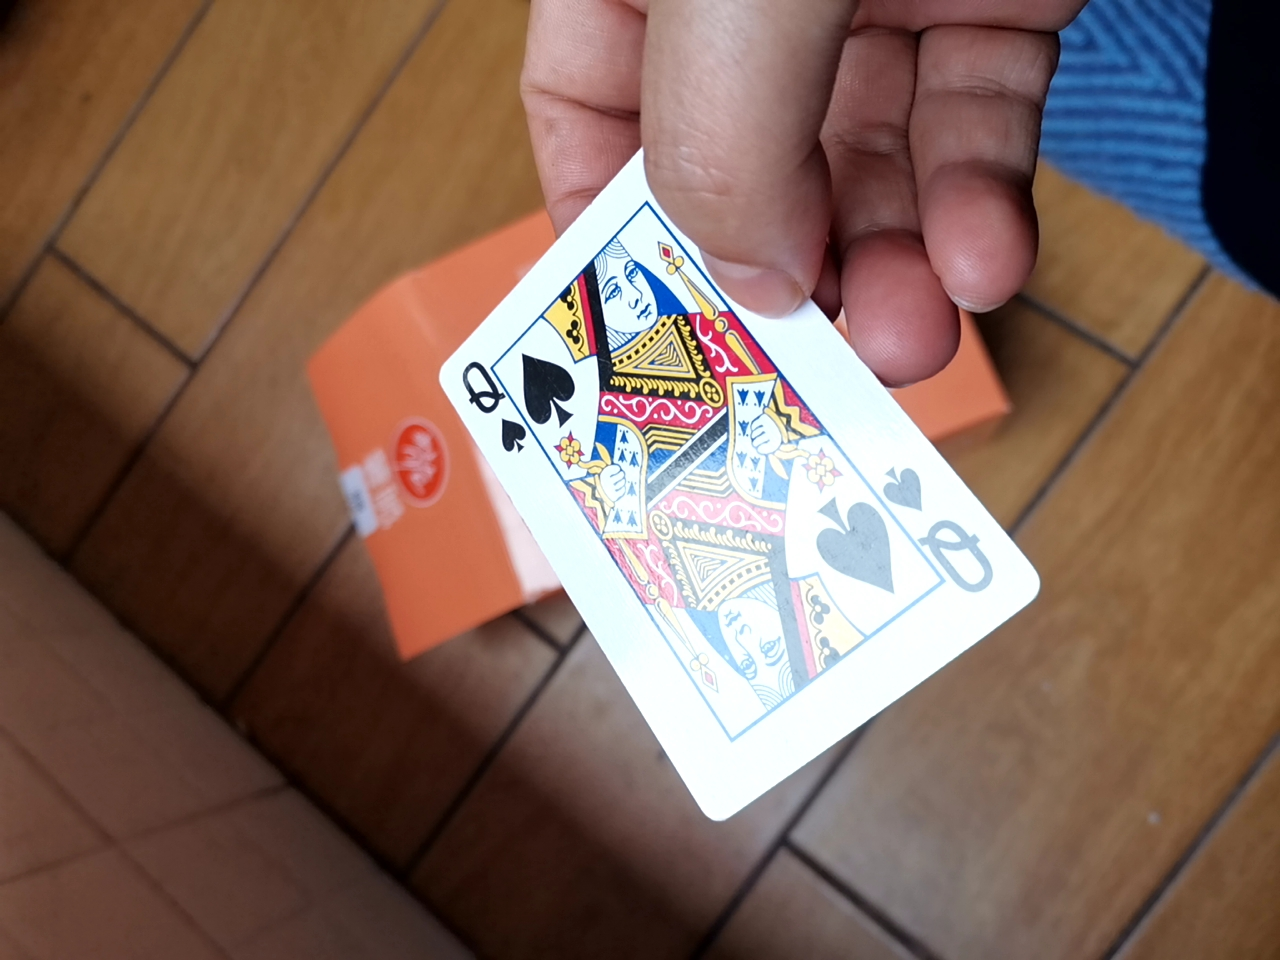ht q: (380, 127, 1012, 860)
